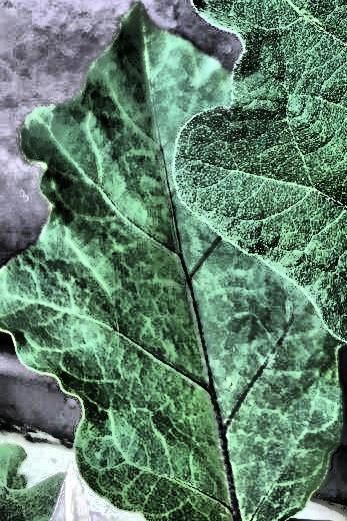HEALTHY: (1, 0, 347, 521)
